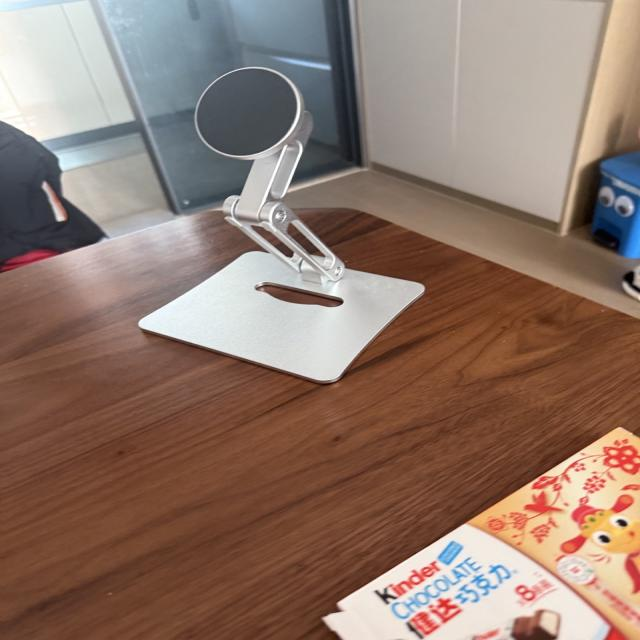phone holder: (111, 64, 436, 386)
